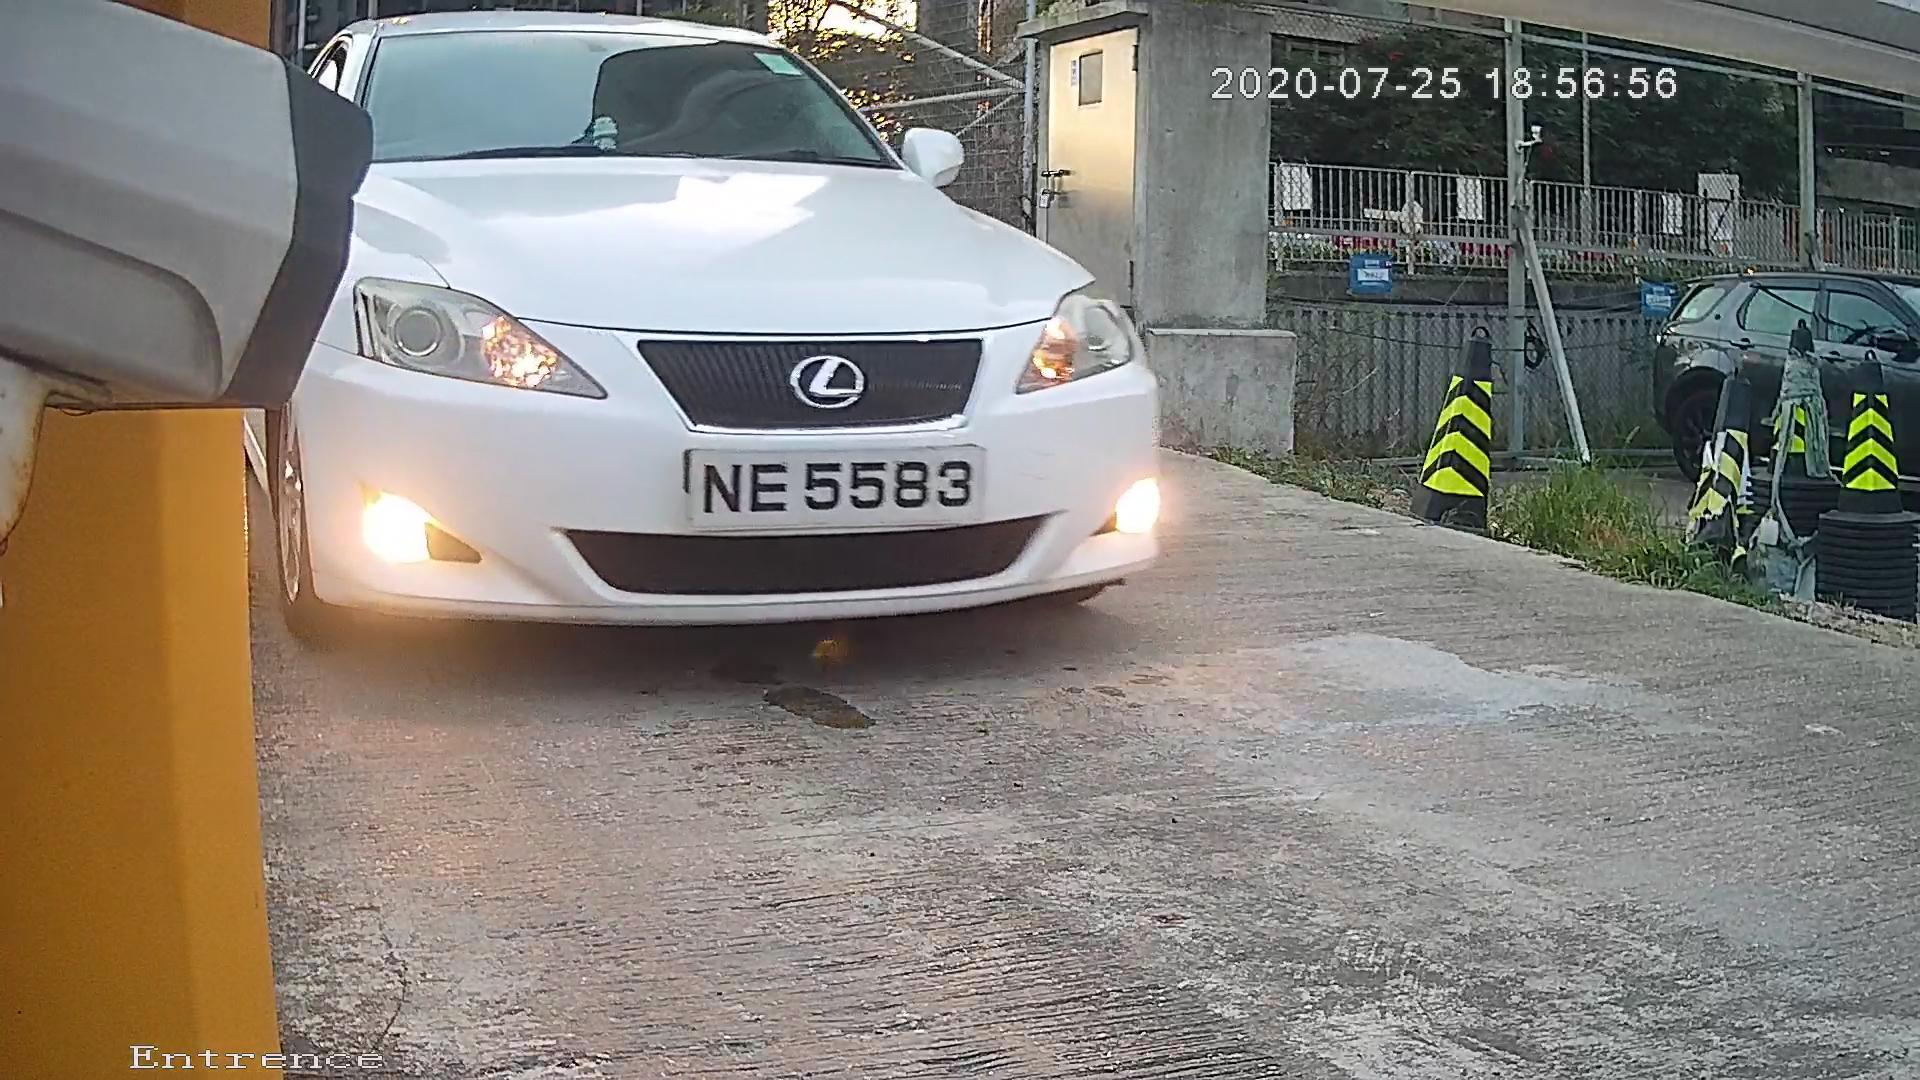License Plate: (678, 434, 995, 536)
